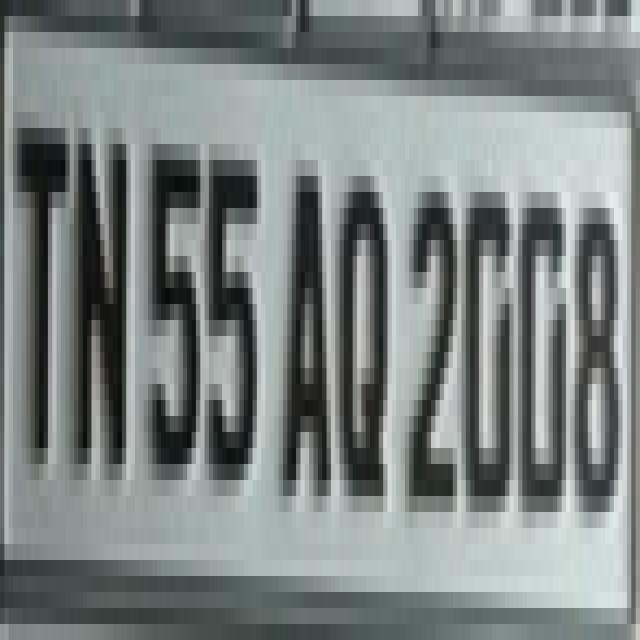0: (462, 163, 518, 533), (516, 168, 572, 532)
5: (203, 118, 266, 499), (147, 114, 205, 478)
8: (570, 148, 626, 530)
A: (280, 146, 334, 520)
N: (72, 108, 132, 496)
Q: (337, 146, 394, 520)
T: (15, 83, 77, 505)
